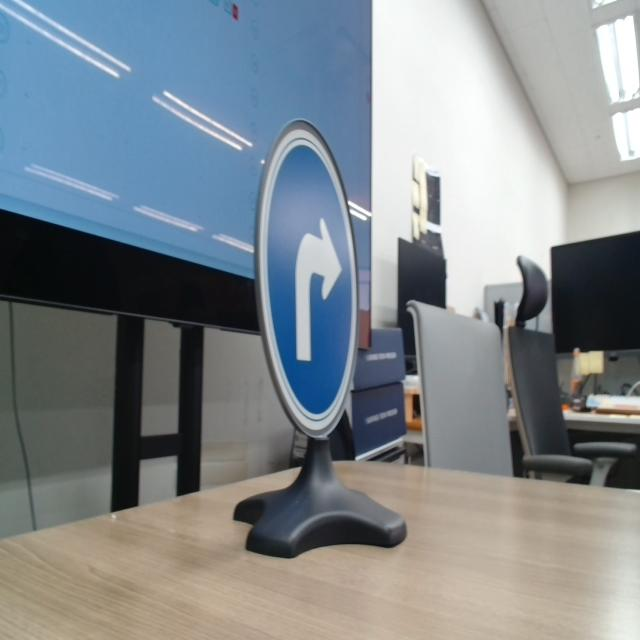right_dierection: (251, 110, 364, 447)
